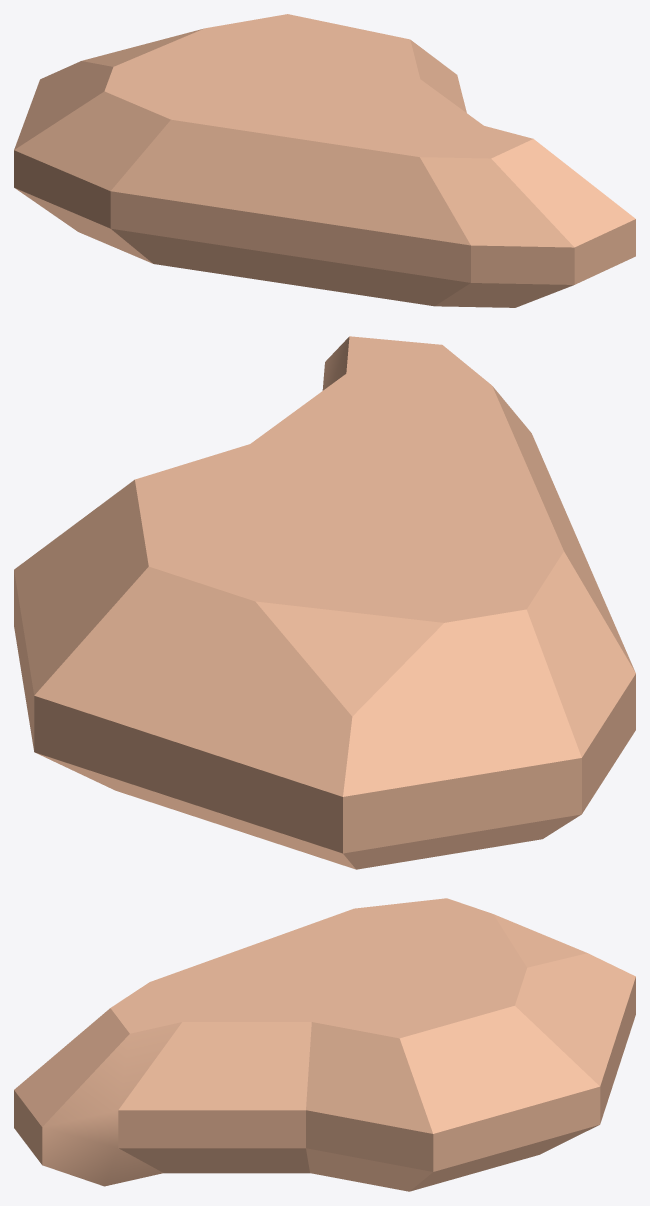
Rendered from rock_largeA.glb.
3 renders of one model, top to bottom at view 1: azimuth 30°, elevation 25°; view 2: azimuth 150°, elevation 25°; view 3: azimuth 270°, elevation 25°, orthographic. The views are drawn at different scales.
Visible parts, largest first — view 1: rock_largeA; view 2: rock_largeA; view 3: rock_largeA.
Boxes of the visible parts, <box> form: rock_largeA: <box>14,14,635,307</box>; rock_largeA: <box>14,336,635,869</box>; rock_largeA: <box>14,898,635,1191</box>.
Bounding box in the file's own units: 0.7849 × 0.2598 × 1.02.
